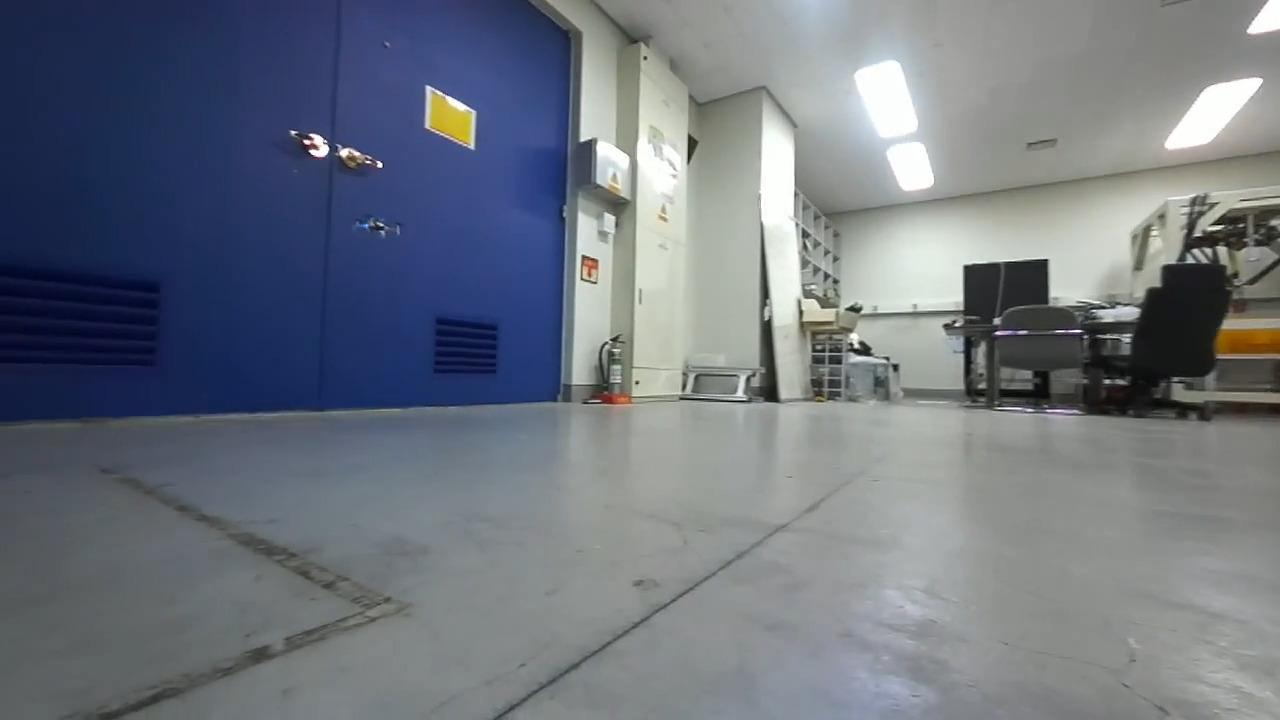crazyflie: (347, 211, 406, 242)
